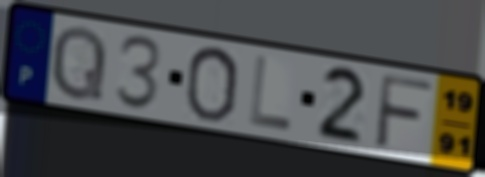2: (315, 64, 371, 150)
3: (113, 33, 165, 112)
F: (371, 70, 436, 153)
L: (246, 53, 295, 134)
O: (182, 45, 242, 124)
Q: (48, 22, 110, 103)
